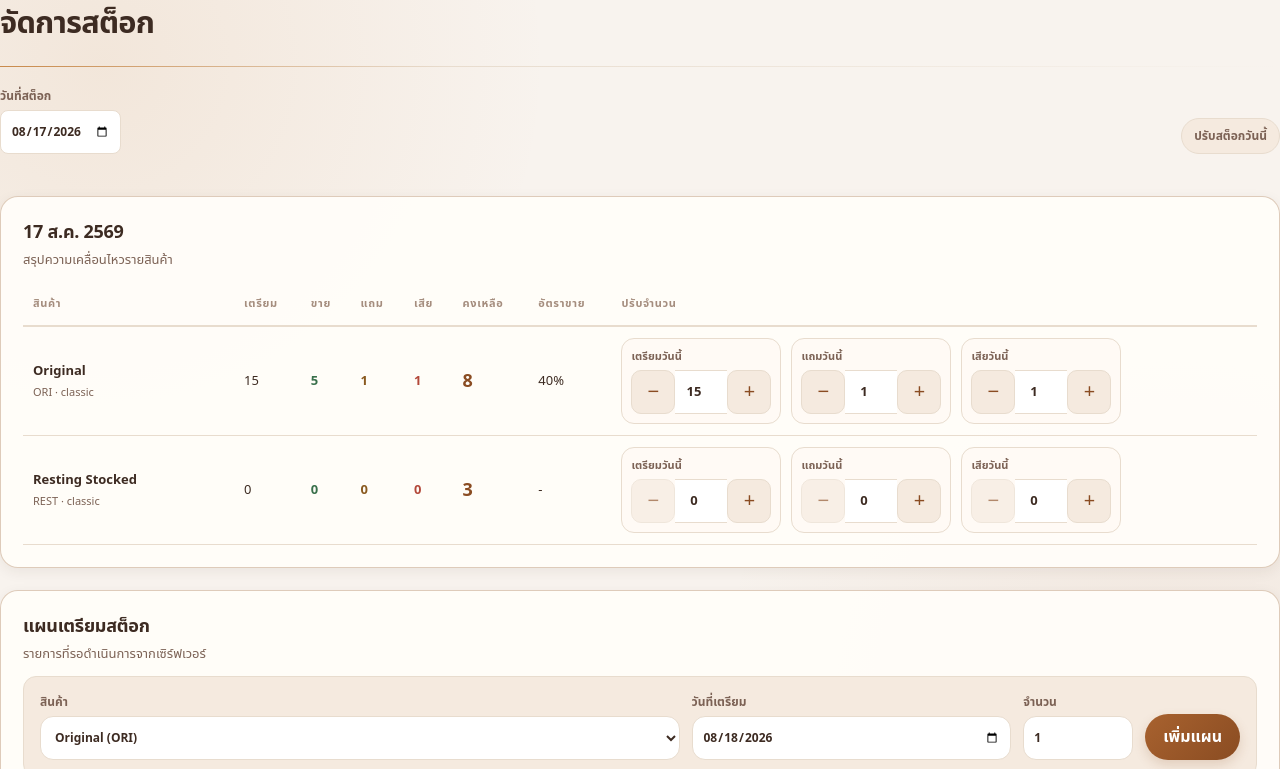
StockPage › submits เพิ่มเสียวันนี้ Original once and updates the row from the confirmed stock
Click the button named "เพิ่มเสียวันนี้ Original" at (1089, 392), box [1067,370,1111,414]
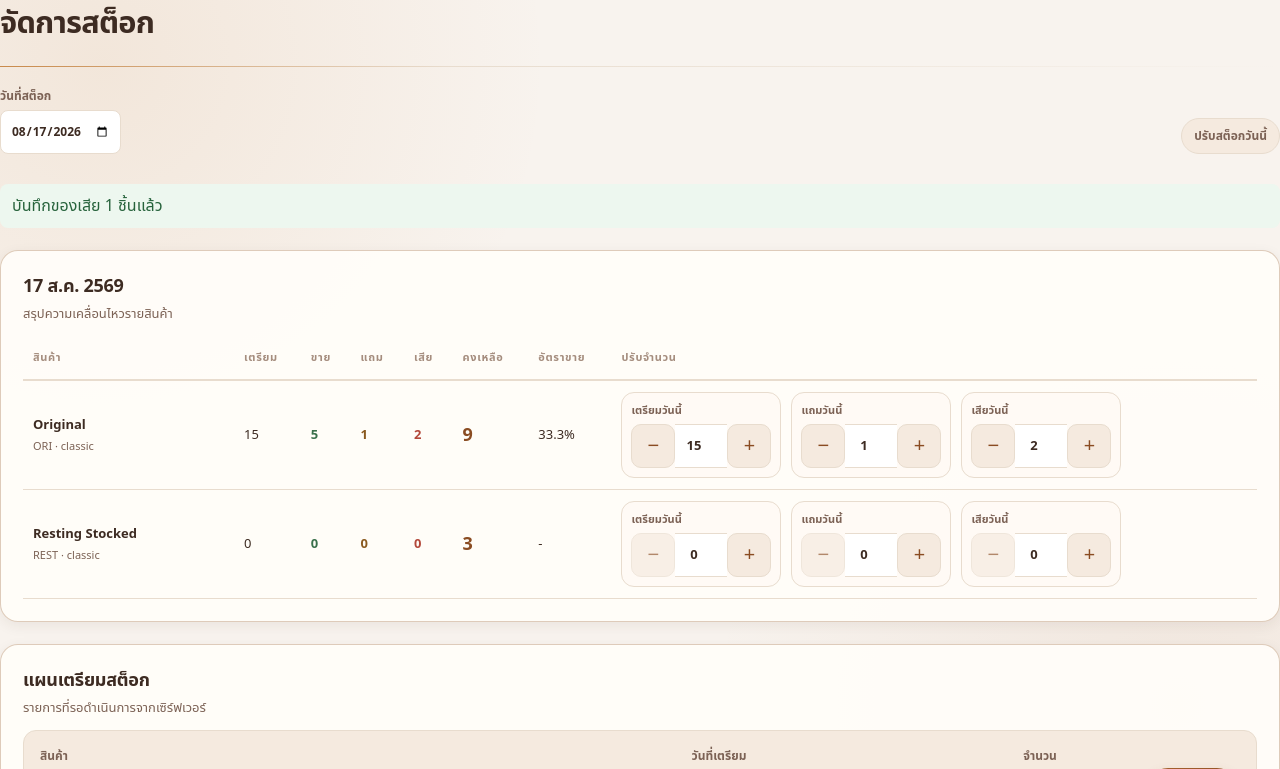
expect the message shows "1 ชิ้นแล้ว": met, box [12,194,163,218]
expect the cell with class "stock-balance-value" reads "9": met, box [462,422,473,448]
